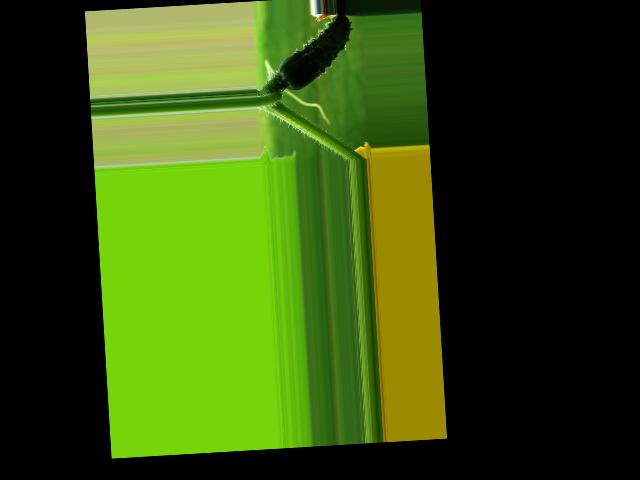cucumber: (276, 14, 355, 92)
